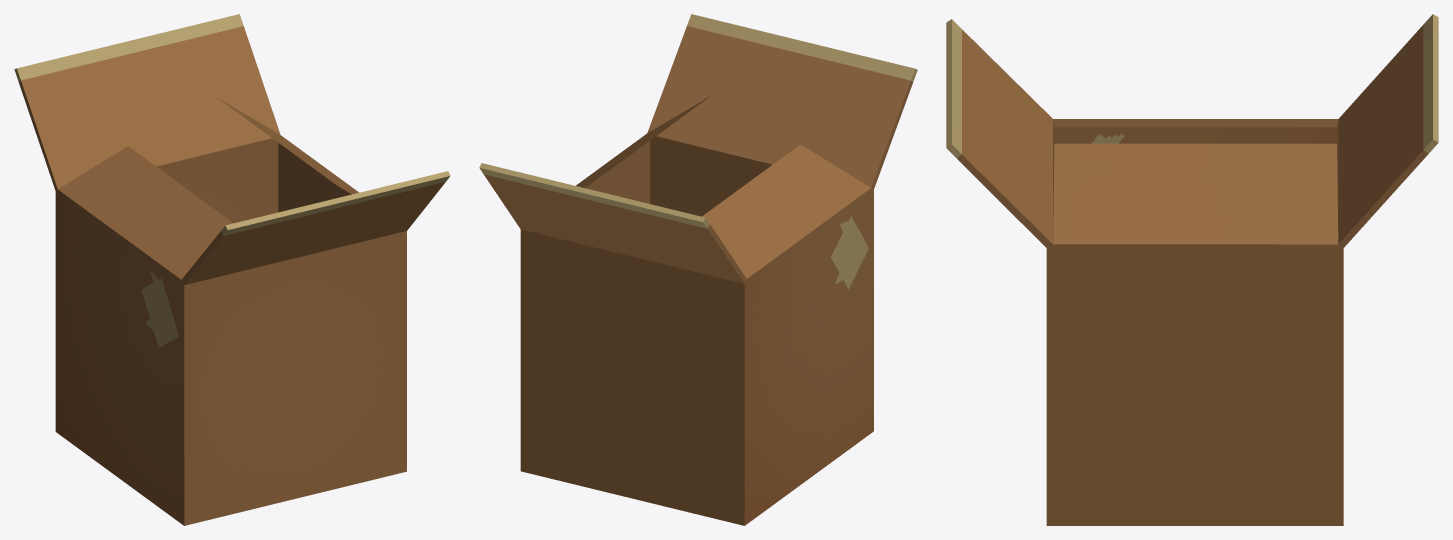
File: BoxOpen.fbx
3 renders of one model, left to right at view 1: azimuth 30°, elevation 25°; view 2: azimuth 150°, elevation 25°; view 3: azimuth 270°, elevation 25°, orthographic. The views are drawn at different scales.
Parts seen in each view (by area): view 1: BoxOpen; view 2: BoxOpen; view 3: BoxOpen.
Part boxes in pixels (bbox=[...]): BoxOpen: bbox=[14, 14, 450, 525]; BoxOpen: bbox=[479, 14, 917, 525]; BoxOpen: bbox=[946, 14, 1438, 525].
Size of the model in its own units: 52.41 by 75.3 by 86.94.
Materials: 1 (1 with a texture image).
